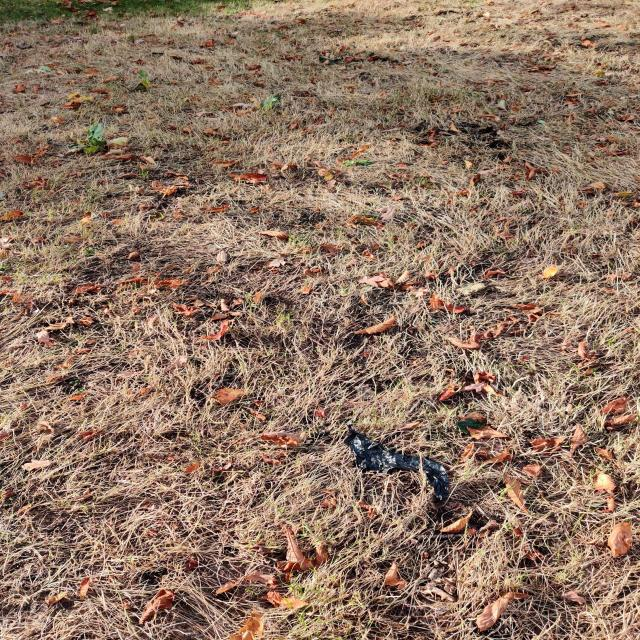litter: (319, 414, 465, 509)
